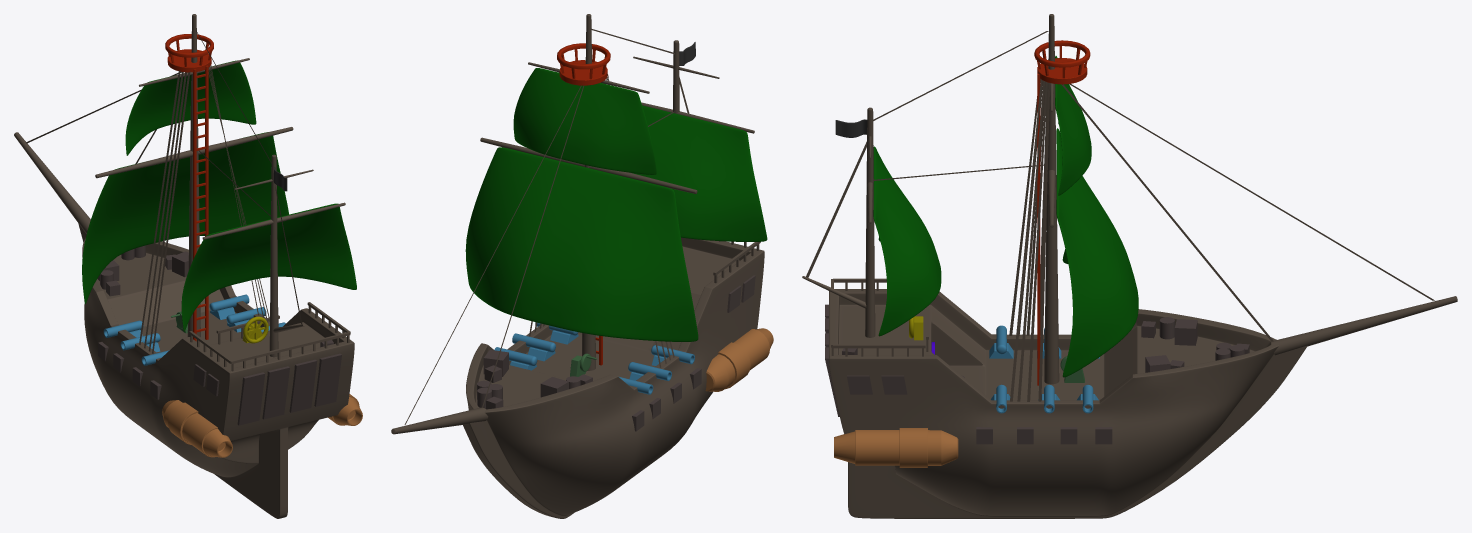
File: Blocking_Boat.fbx
3 views of the same model, side by side, from view 1: azimuth 30°, elevation 25°; view 2: azimuth 150°, elevation 25°; view 3: azimuth 270°, elevation 25° (orthographic). The views are drawn at different scales.
Parts seen in each view (by area): view 1: Boat_Blocking, LD_Sail_01, LD_Sail_02, LD_HighView, LD_Reactors_01, LD_Canon_04, LD_Steering_Wheel, LD_Canon_05, LD_Canon_01; view 2: LD_Sail_01, Boat_Blocking, LD_Sail_02, LD_Reactors_01, LD_HighView, LD_Canon_05, LD_Canon_02, LD_Canon_03, LD_Canon_04; view 3: Boat_Blocking, LD_Sail_01, LD_Sail_02, LD_Reactors_01, LD_HighView.
Part boxes in pixels (x1=…): Boat_Blocking: x1=14, y1=14, x2=354, y2=518; LD_Sail_01: x1=82, y1=58, x2=293, y2=304; LD_Sail_02: x1=181, y1=202, x2=356, y2=331; LD_HighView: x1=165, y1=34, x2=213, y2=341; LD_Reactors_01: x1=162, y1=394, x2=362, y2=457; LD_Canon_04: x1=209, y1=294, x2=249, y2=319; LD_Steering_Wheel: x1=243, y1=316, x2=268, y2=343; LD_Canon_05: x1=226, y1=307, x2=266, y2=332; LD_Canon_01: x1=103, y1=320, x2=143, y2=337; LD_Sail_01: x1=465, y1=62, x2=698, y2=341; Boat_Blocking: x1=391, y1=14, x2=764, y2=518; LD_Sail_02: x1=632, y1=102, x2=767, y2=241; LD_Reactors_01: x1=705, y1=328, x2=773, y2=391; LD_HighView: x1=557, y1=43, x2=610, y2=365; LD_Canon_05: x1=512, y1=333, x2=555, y2=361; LD_Canon_02: x1=628, y1=362, x2=671, y2=380; LD_Canon_03: x1=651, y1=345, x2=694, y2=365; LD_Canon_04: x1=494, y1=347, x2=537, y2=370; Boat_Blocking: x1=802, y1=14, x2=1457, y2=518; LD_Sail_01: x1=1047, y1=56, x2=1138, y2=377; LD_Sail_02: x1=867, y1=146, x2=941, y2=336; LD_Reactors_01: x1=834, y1=428, x2=958, y2=467; LD_HighView: x1=1034, y1=40, x2=1090, y2=385.
Bounding box in the file's own units: 8.37 × 16.83 × 19.91.
